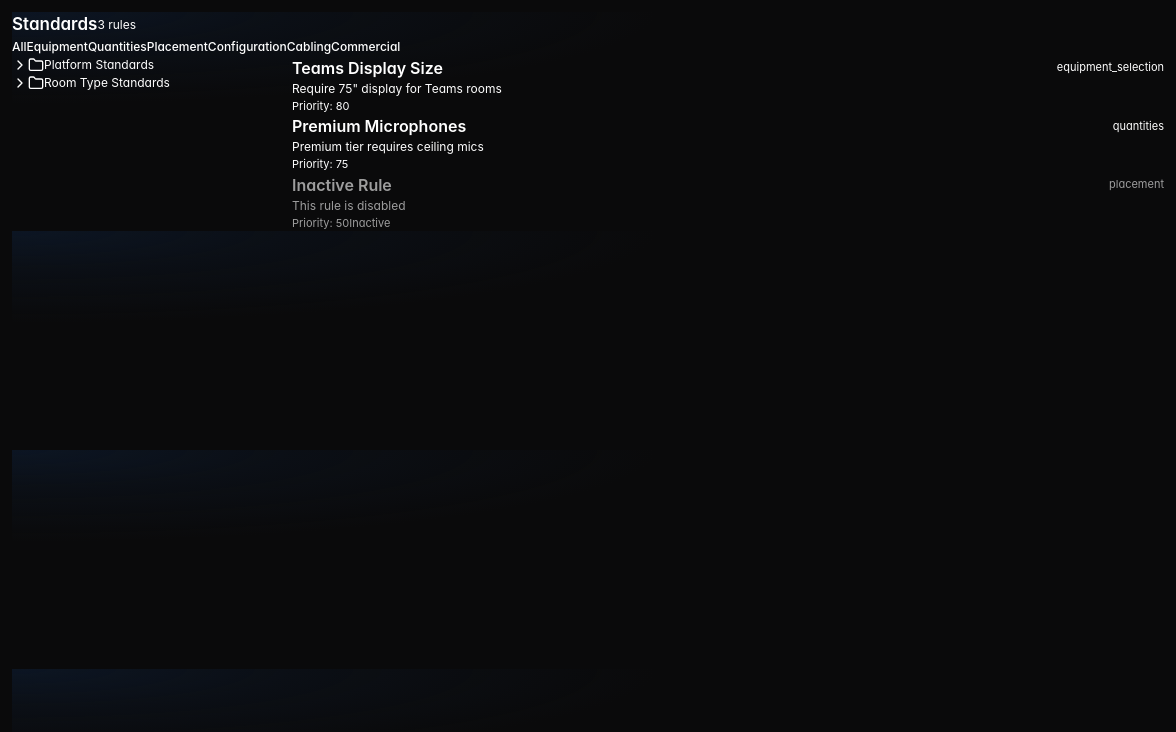
Test: StandardsList › Folder Expansion › expands folder on click
What coordinates should you click on to do the following:
click the list item "Platform Standards"
I would click on:
 (83, 64)
Its box is [12,56,154,72].
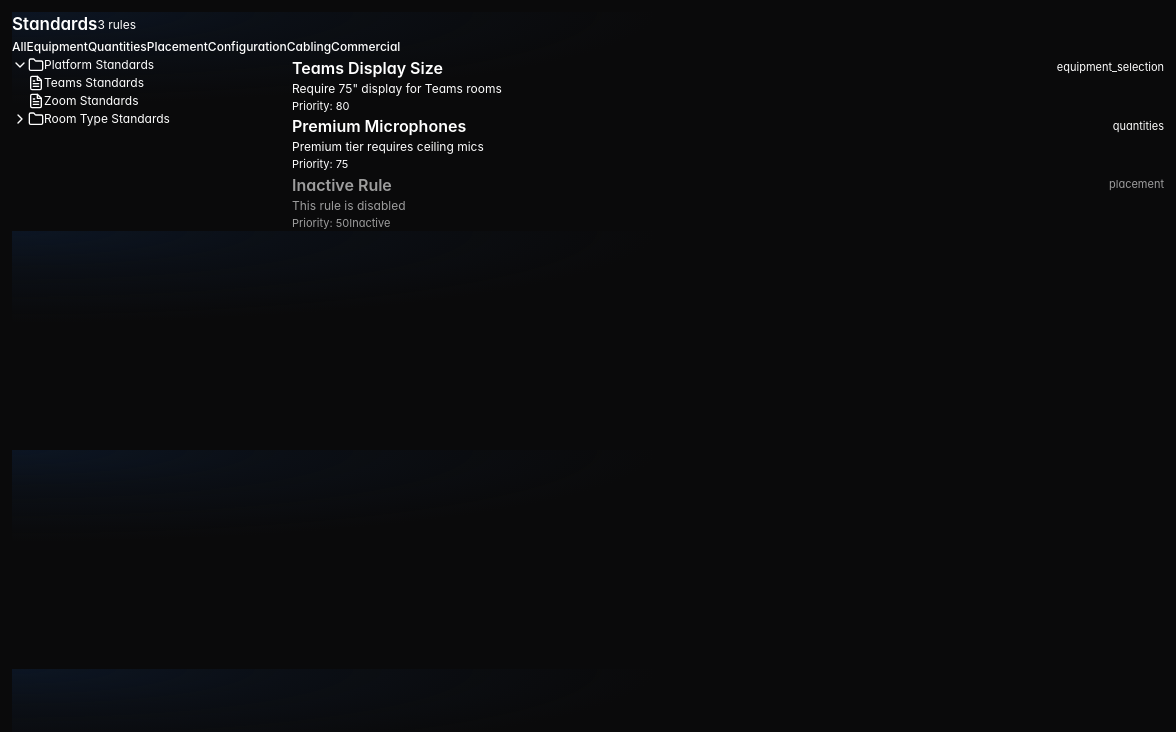
Expected: the list item "Platform Standards" is expanded, [12,56,154,72]
